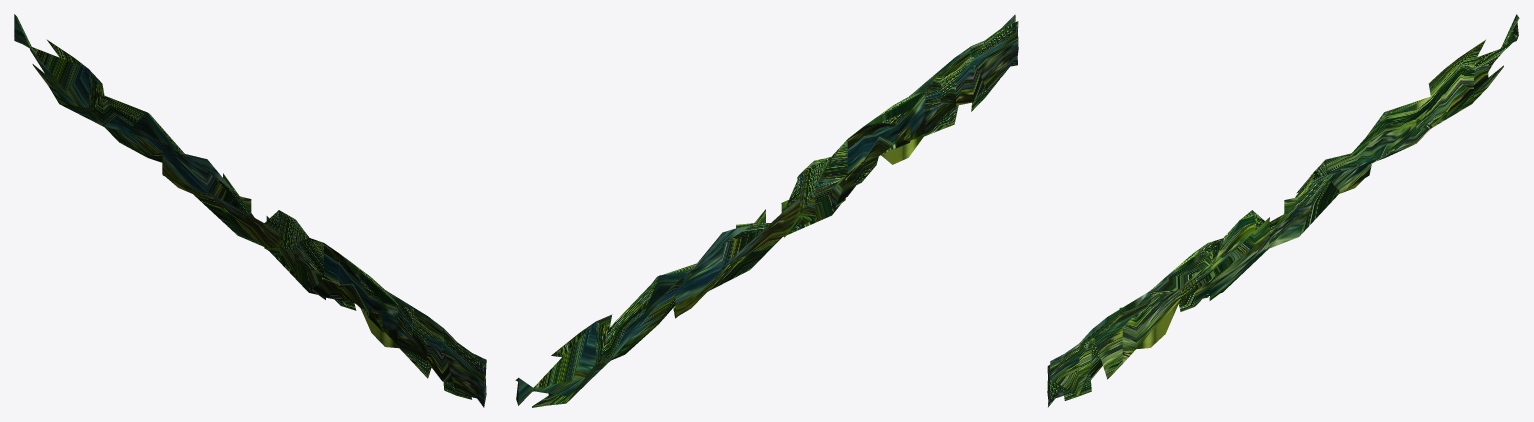
3 views of the same model, side by side, from view 1: azimuth 30°, elevation 25°; view 2: azimuth 150°, elevation 25°; view 3: azimuth 330°, elevation 25° (orthographic). The views are drawn at different scales.
Visible parts, largest first — view 1: algae_cube_Cube; view 2: algae_cube_Cube; view 3: algae_cube_Cube.
Part boxes in pixels (left/top/right/bottom): algae_cube_Cube: left=14, top=14, right=486, bottom=407; algae_cube_Cube: left=515, top=14, right=1018, bottom=407; algae_cube_Cube: left=1047, top=14, right=1519, bottom=407.
Size of the model in its own units: 0.0118 by 0.2436 by 3.22.
